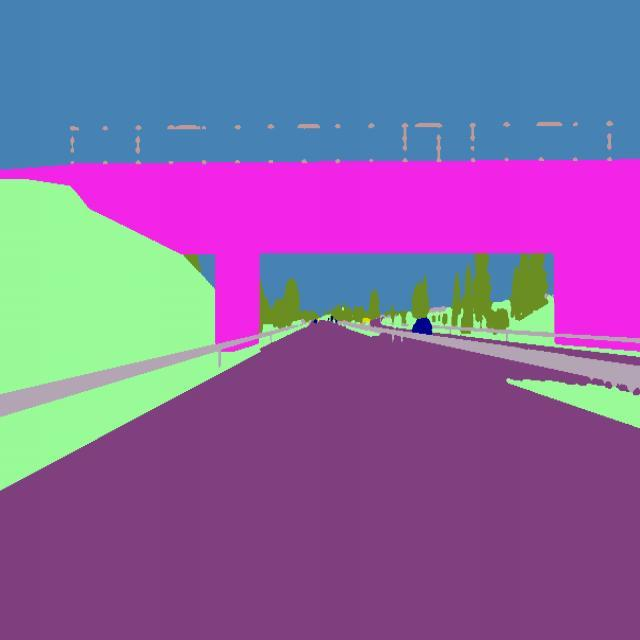safe: (408, 313, 437, 342), (312, 318, 321, 326)
